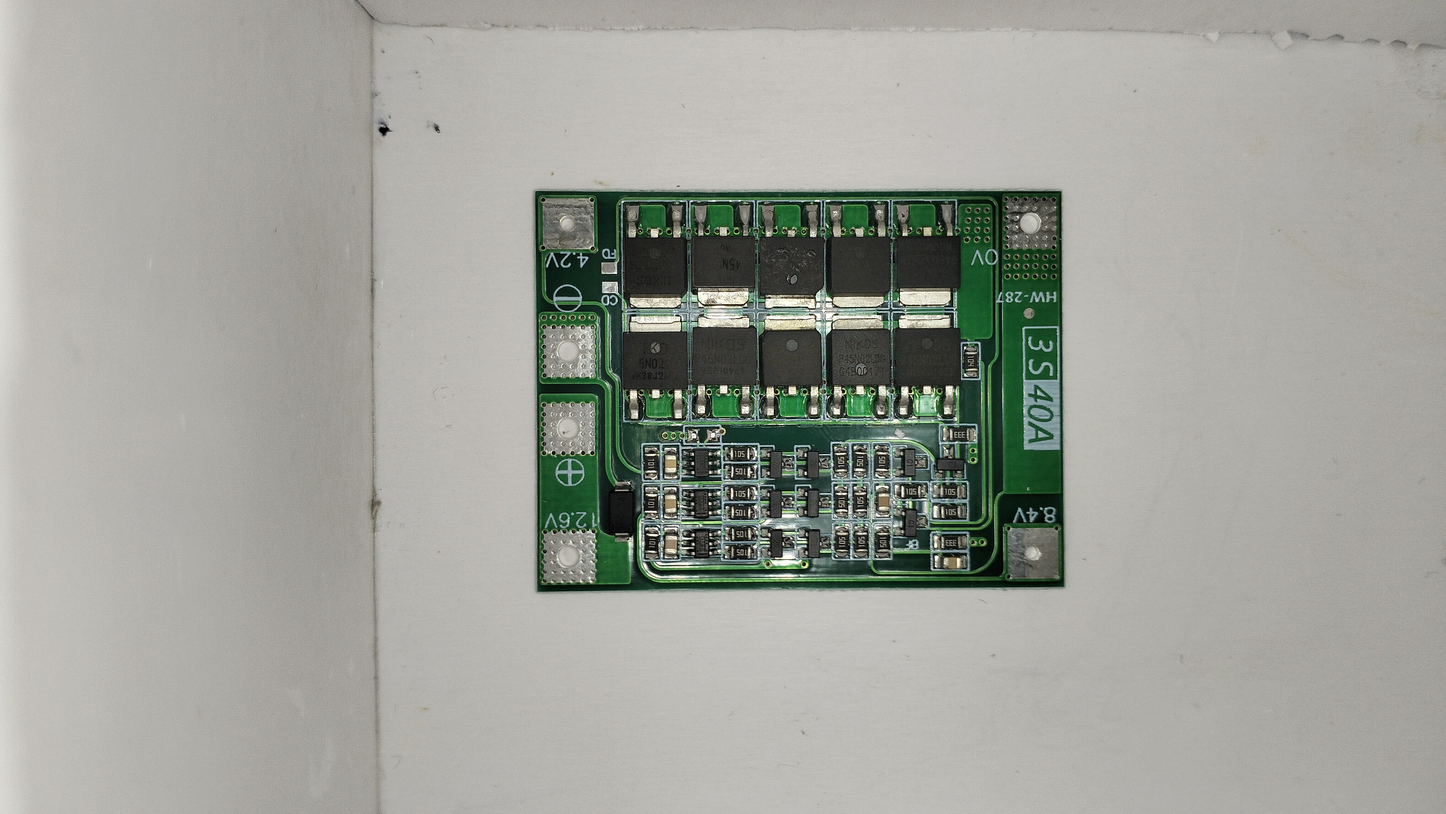C: (931, 553, 969, 570), (874, 487, 891, 518), (662, 530, 679, 561), (663, 448, 680, 478), (663, 489, 680, 519)
R 105: (725, 543, 760, 562), (724, 524, 759, 543), (726, 503, 761, 522), (725, 463, 760, 482), (931, 505, 965, 524), (725, 443, 760, 461), (894, 484, 929, 502), (934, 484, 969, 502), (725, 484, 760, 502), (853, 524, 872, 557), (851, 485, 870, 518), (851, 444, 870, 477), (832, 444, 851, 476), (833, 524, 851, 557), (873, 445, 891, 478), (874, 527, 892, 559), (833, 487, 851, 519)
R EEE: (931, 533, 970, 551), (941, 427, 976, 443)
R101: (640, 445, 660, 479), (640, 483, 660, 517), (640, 524, 659, 558)
R104: (962, 344, 979, 379)
diode: (604, 481, 635, 544)
ic 1: (823, 201, 891, 310), (691, 200, 759, 309), (621, 201, 688, 310), (623, 310, 690, 419), (691, 313, 758, 422), (757, 314, 824, 423), (825, 308, 892, 417), (894, 198, 961, 307), (757, 202, 824, 311), (893, 313, 960, 421)
ic 2: (893, 504, 928, 538), (681, 528, 722, 557), (683, 450, 724, 478), (682, 490, 723, 518)
transitor: (891, 447, 927, 481), (761, 447, 793, 481), (761, 528, 793, 562), (762, 485, 794, 519), (934, 448, 965, 482), (798, 526, 829, 560), (799, 484, 830, 518), (797, 444, 828, 478)
